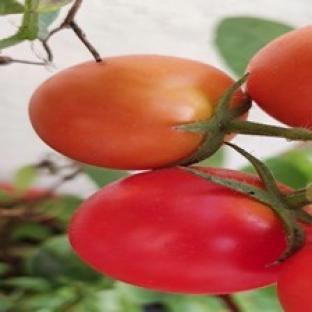Tomato: (69, 168, 285, 293), (30, 55, 233, 169), (247, 27, 311, 128), (278, 246, 311, 311)
